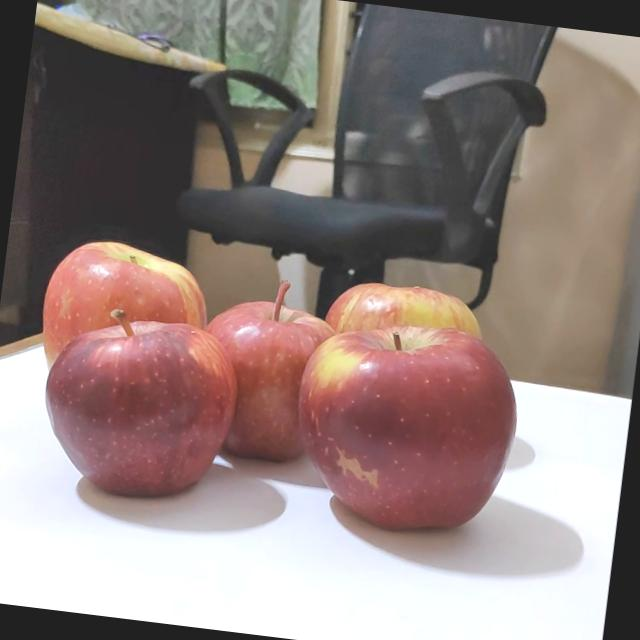apple: (274, 306, 527, 544), (22, 298, 237, 504), (170, 266, 344, 470), (28, 230, 215, 405), (310, 270, 494, 415)
